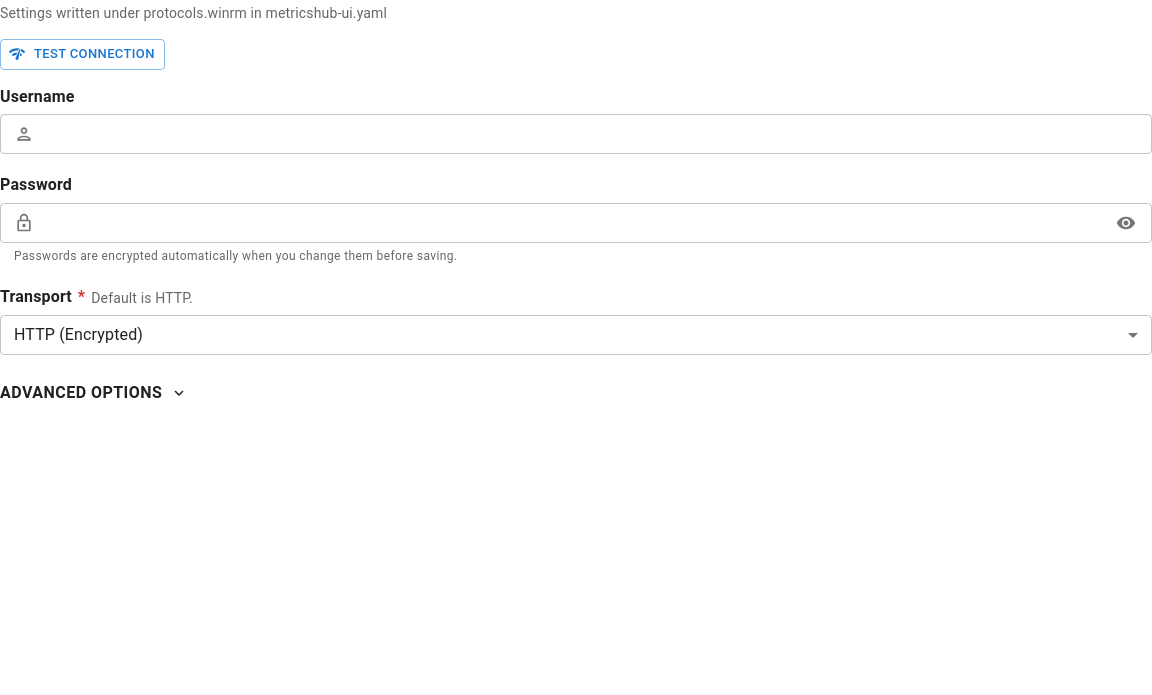
Test: WinRM Basic set in YAML › keeps Basic selectable after switching away, until saved
Click the button "Advanced options" at (93, 393), box [0,375,186,411]
(page scrolled)
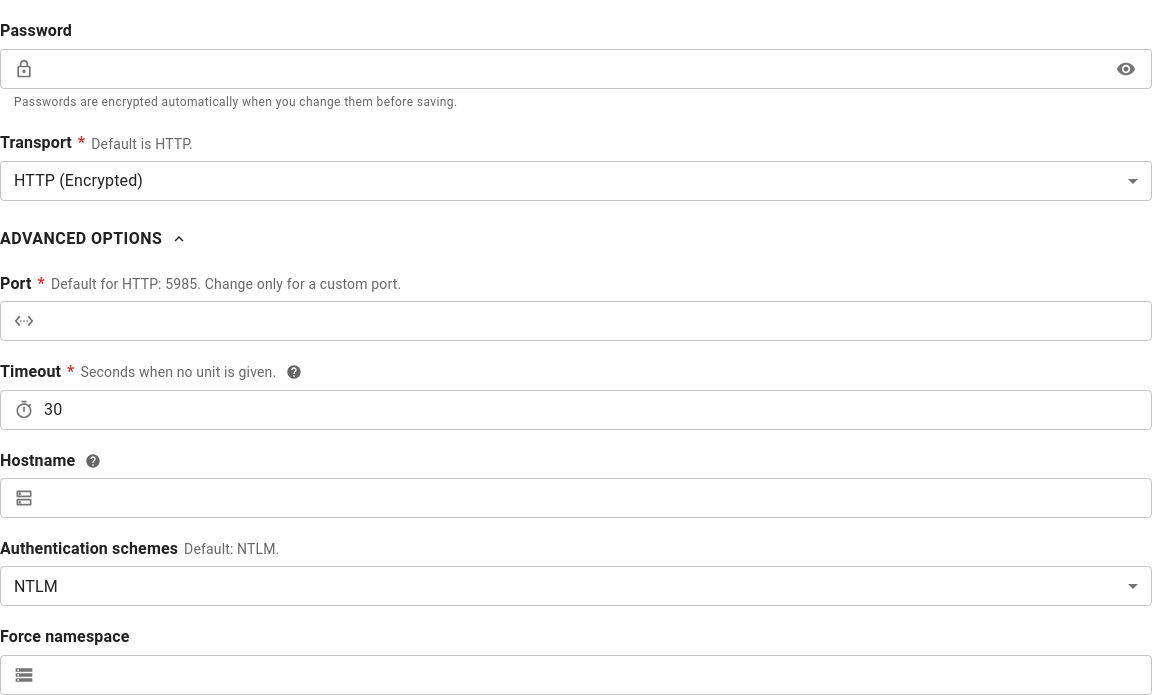
Press the mouse on the dropdown with id "winrm-authentications" at (36, 586), box [14,577,58,596]
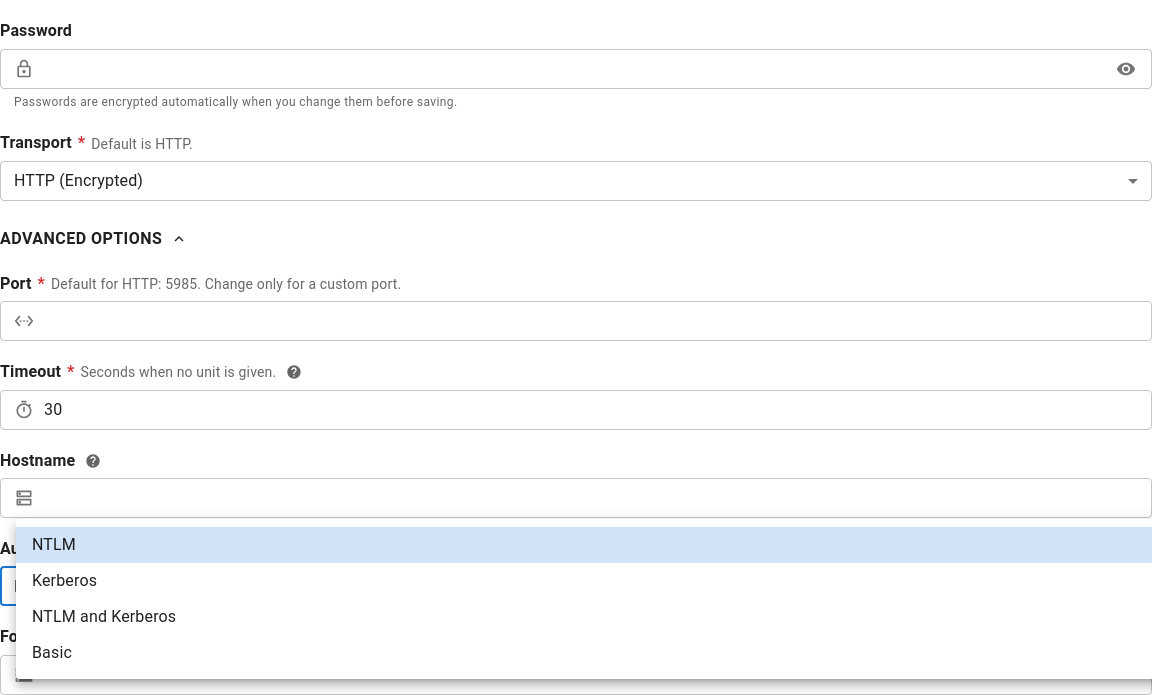
Check: the option "Basic" is shown, box [32,643,72,662]
